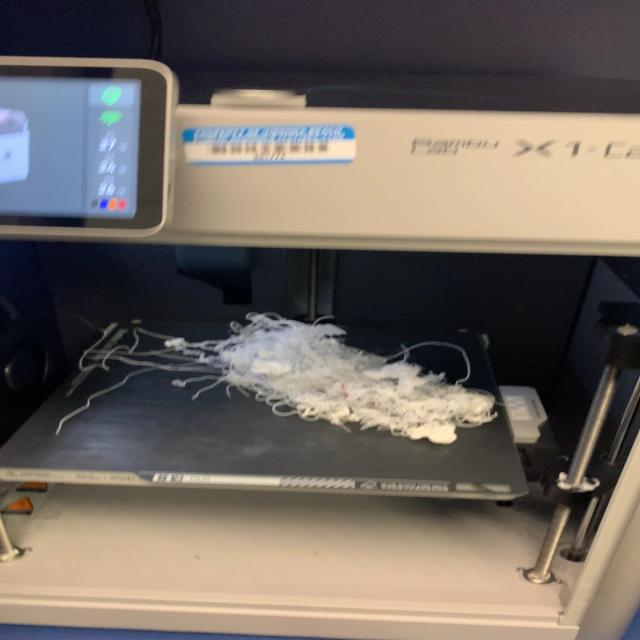spaghetti: (51, 310, 504, 448)
